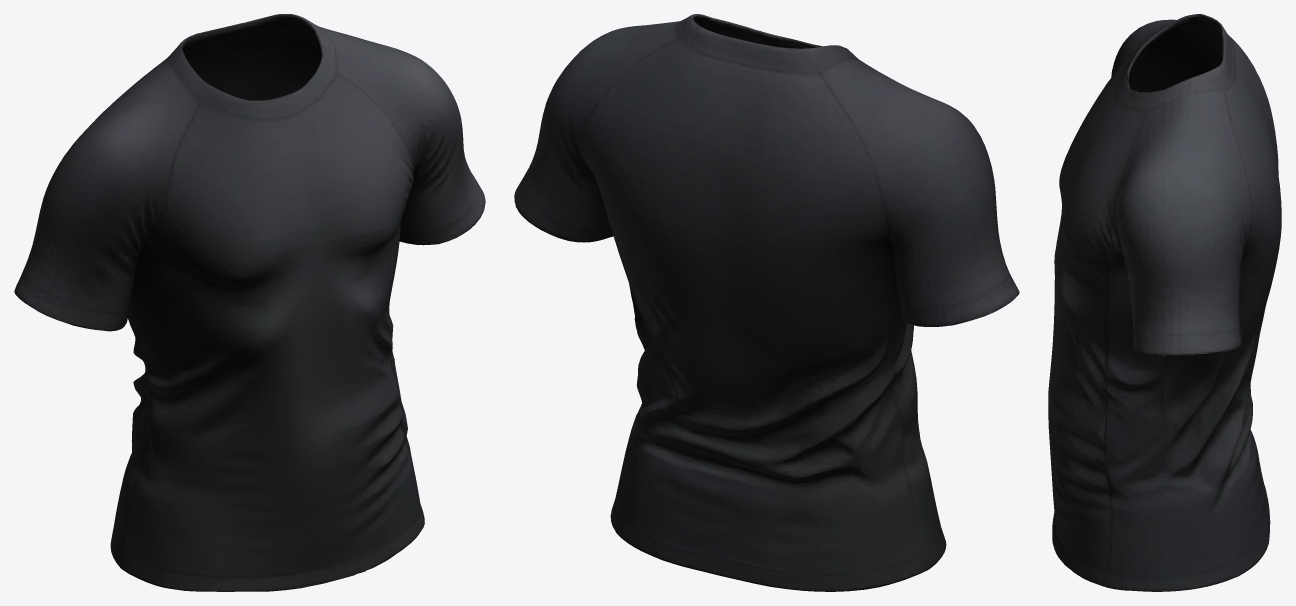
Rendered from short-sleeves.glb.
3 renders of one model, left to right at view 1: azimuth 30°, elevation 25°; view 2: azimuth 150°, elevation 25°; view 3: azimuth 270°, elevation 25°, orthographic. The views are drawn at different scales.
Parts seen in each view (by area): view 1: geometry_0; view 2: geometry_0; view 3: geometry_0.
Boxes of the visible parts, bbox=[...] form: geometry_0: bbox=[14, 14, 485, 591]; geometry_0: bbox=[514, 14, 1019, 591]; geometry_0: bbox=[1048, 14, 1281, 591].
Bounding box in the file's own units: 0.9612 × 0.9999 × 0.434.
1 material, 1 textured.
